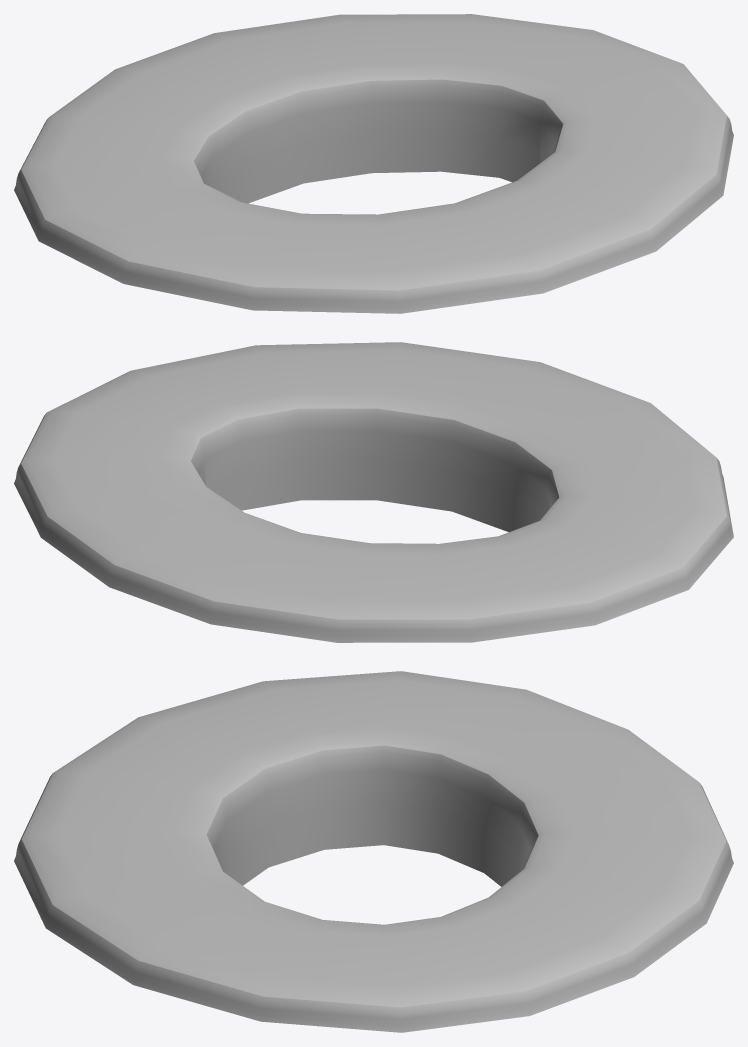
Rendered from AESPA1_03.glb.
The picture shows the model from 3 angles, top to bottom: view 1: azimuth 30°, elevation 25°; view 2: azimuth 150°, elevation 25°; view 3: azimuth 270°, elevation 25°; orthographic projection. The views are drawn at different scales.
Visible parts, largest first — view 1: AESPA.1_03; view 2: AESPA.1_03; view 3: AESPA.1_03.
Boxes of the visible parts, x1=… form: AESPA.1_03: x1=14, y1=14, x2=733, y2=313; AESPA.1_03: x1=14, y1=342, x2=733, y2=642; AESPA.1_03: x1=14, y1=671, x2=733, y2=1032.
Size of the model in its own units: 0.088 by 0.0122 by 0.0781.
Materials: 1 (1 with a texture image).
